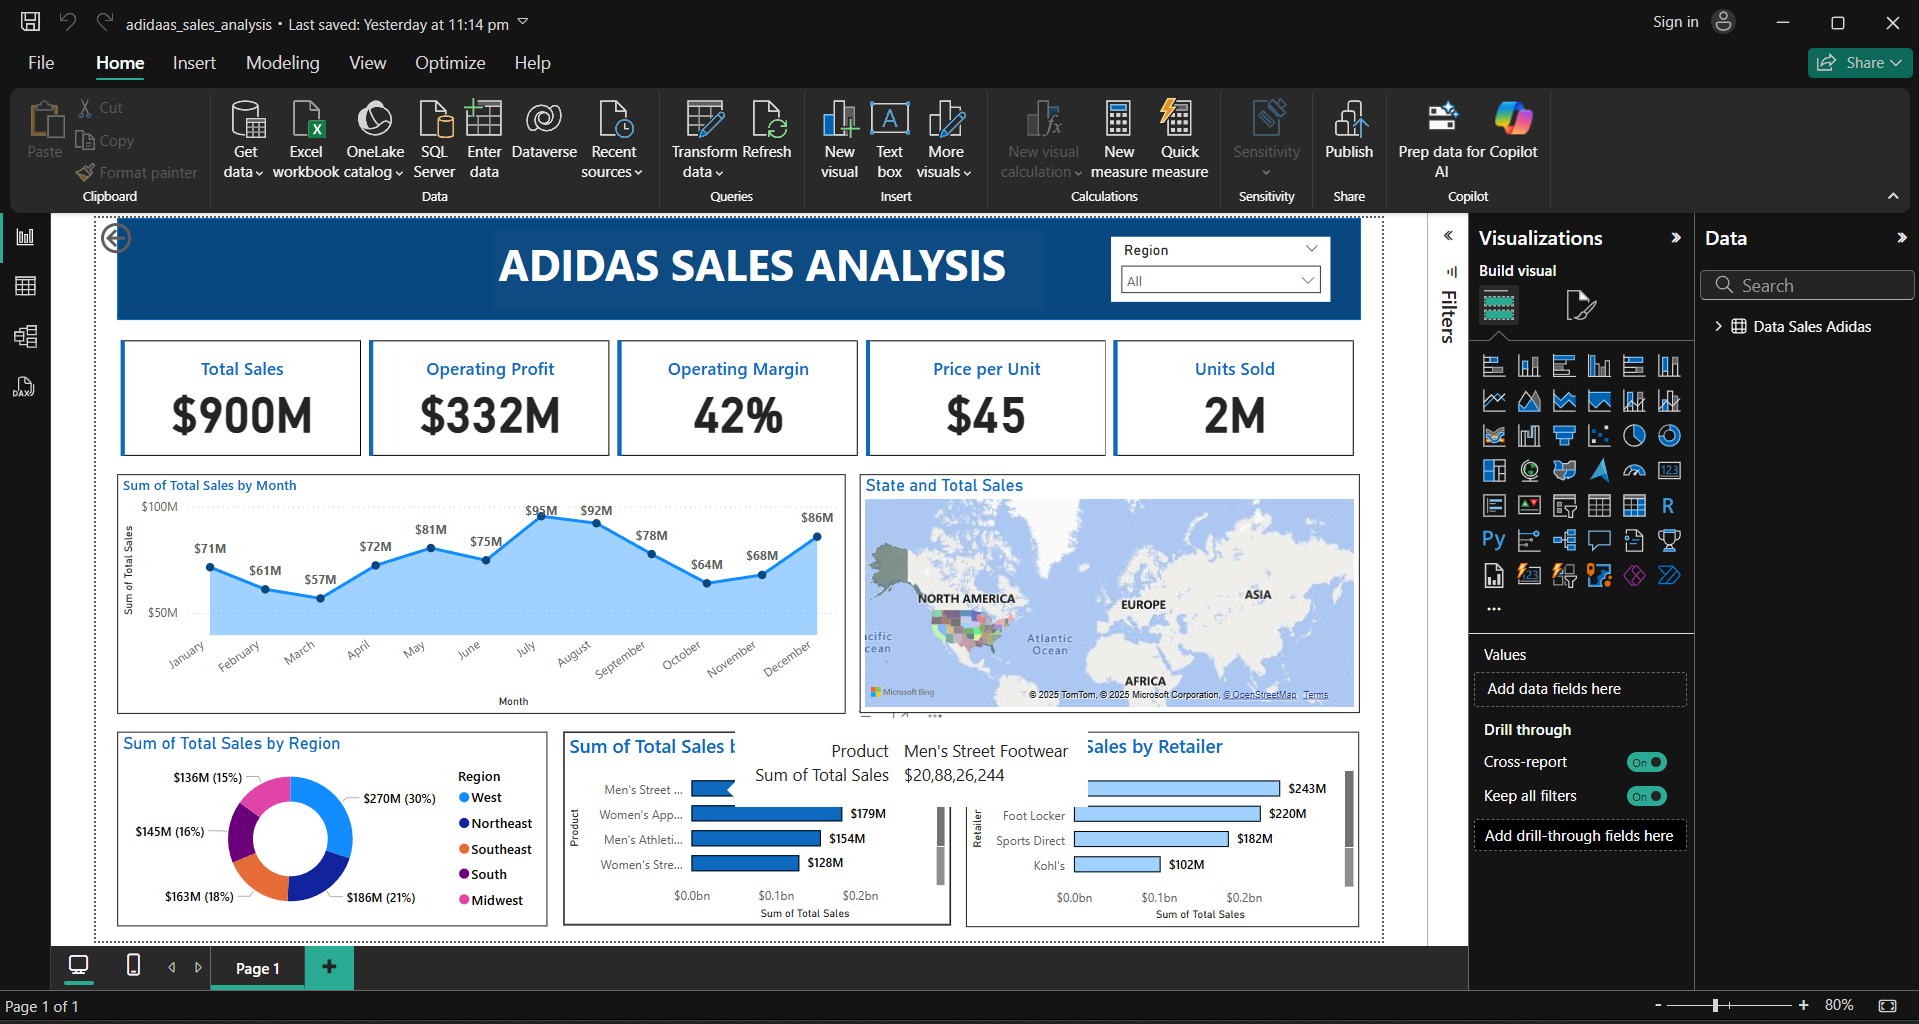

The dashboard page shown, as its layout file describes it:
{"tool":"powerbi","page":{"name":"Page 1","canvas":[1280,720],"ordinal":0},"visuals":[{"type":"shape","box":[20.6,0,1237.7,101.5],"z":0},{"type":"textbox","box":[395.2,11,548.9,81],"z":1000},{"type":"cardVisual","fields":{"Data":["Sum(Data Sales Adidas.Total Sales)","Sum(Data Sales Adidas.Operating Profit)","Avg(Data Sales Adidas.Operating Margin)","Avg(Data Sales Adidas.Price per Unit)","Sum(Data Sales Adidas.Units Sold)"]},"box":[20,116.7,1238.3,125],"z":2000},{"type":"areaChart","fields":{"Category":["Data Sales Adidas.Invoice Date.Variation.Date Hierarchy.Month"],"Y":["Sum(Data Sales Adidas.Total Sales)"]},"box":[21.7,255,725,238.3],"z":3000},{"type":"donutChart","fields":{"Category":["Data Sales Adidas.Region"],"Y":["Sum(Data Sales Adidas.Total Sales)"]},"box":[21.7,511.7,428.3,193.3],"z":4000},{"type":"barChart","fields":{"Category":["Data Sales Adidas.Product"],"Y":["Sum(Data Sales Adidas.Total Sales)"]},"box":[465.7,511.4,385.7,192.9],"z":5000},{"type":"barChart","fields":{"Y":["Sum(Data Sales Adidas.Total Sales)"],"Category":["Data Sales Adidas.Retailer"]},"box":[865.7,511.4,391.4,194.3],"z":6000},{"type":"slicer","fields":{"Values":["Data Sales Adidas.Region"]},"box":[1010,18.8,218.8,65],"z":7000},{"type":"filledMap","fields":{"Category":["Data Sales Adidas.State"],"Series":["Data Sales Adidas.Total Sales"]},"box":[760,255,497.5,237.5],"z":8000},{"type":"actionButton","box":[0,0,100,40],"z":9000}]}

Visuals, with their boxes on the page's 1280x720 design canvas (x1, y1, x2, y2). These are canvas units, not pixel positions in the 1919x1024 screenshot, which may show the page scaled, cropped or inside an application window:
shape: crop(21, 0, 1258, 102)
textbox: crop(395, 11, 944, 92)
cardVisual - Sum(Data Sales Adidas.Total Sales) x Sum(Data Sales Adidas.Operating Profit): crop(20, 117, 1258, 242)
areaChart - Data Sales Adidas.Invoice Date.Variation.Date Hierarchy.Month x Sum(Data Sales Adidas.Total Sales): crop(22, 255, 747, 493)
donutChart - Data Sales Adidas.Region x Sum(Data Sales Adidas.Total Sales): crop(22, 512, 450, 705)
barChart - Data Sales Adidas.Product x Sum(Data Sales Adidas.Total Sales): crop(466, 511, 851, 704)
barChart - Sum(Data Sales Adidas.Total Sales) x Data Sales Adidas.Retailer: crop(866, 511, 1257, 706)
slicer - Data Sales Adidas.Region: crop(1010, 19, 1229, 84)
filledMap - Data Sales Adidas.State x Data Sales Adidas.Total Sales: crop(760, 255, 1258, 492)
actionButton: crop(0, 0, 100, 40)
